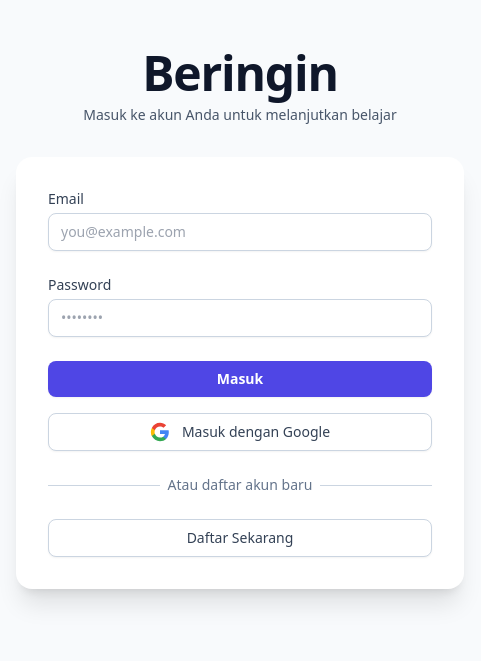
LoginPage › shows unexpected error message on API crash
The width and height of the screenshot is (481, 661).
Type "user@example.com" into the field labelled "Email".
click(240, 232); type("user@example.com")  # box [48,213,432,251]
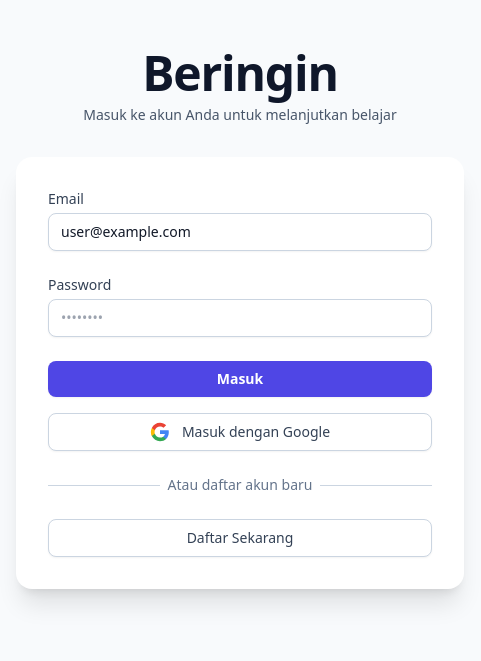
Type "password123" into the password field labelled "Password".
click(240, 318); type("password123")  # box [48,299,432,337]
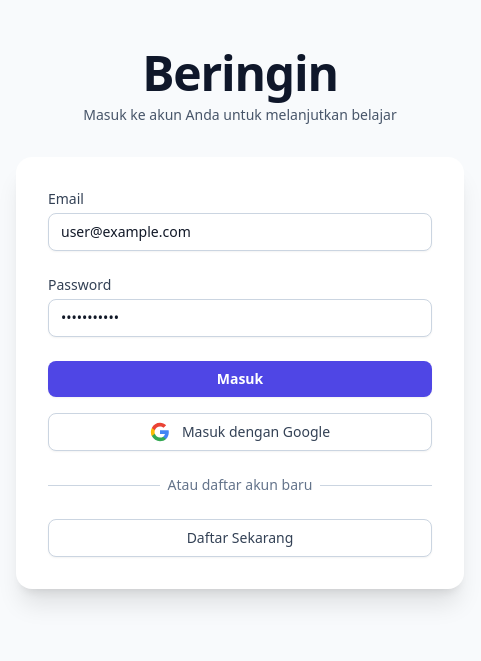
Click the button "Masuk".
click(240, 379)  # box [48,361,432,397]
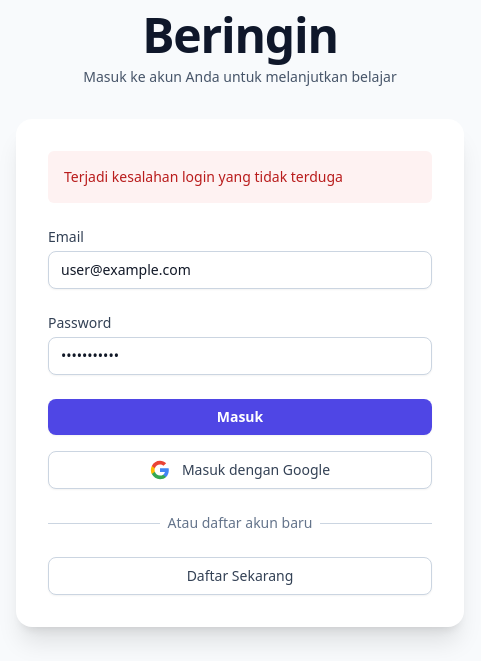
Now the text "Terjadi kesalahan login yang tidak terduga" is shown, box [48,151,432,203]
